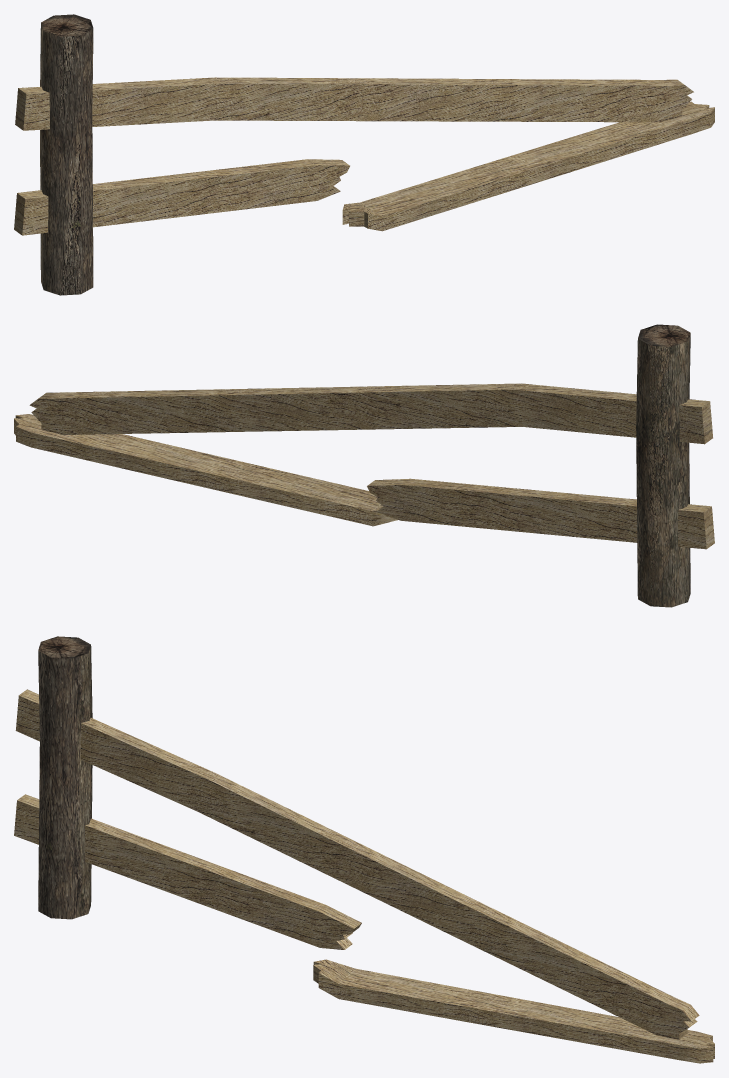
File: woodenFence12.FBX
3 views of the same model, one above another, from view 1: azimuth 30°, elevation 25°; view 2: azimuth 150°, elevation 25°; view 3: azimuth 330°, elevation 25° (orthographic).
Parts seen in each view (by area): view 1: wooden_fence_large_broken_1poleL; view 2: wooden_fence_large_broken_1poleL; view 3: wooden_fence_large_broken_1poleL.
Part boxes in pixels (left/top/right/bottom): wooden_fence_large_broken_1poleL: left=14, top=14, right=714, bottom=295; wooden_fence_large_broken_1poleL: left=14, top=324, right=714, bottom=607; wooden_fence_large_broken_1poleL: left=14, top=636, right=714, bottom=1063.
Bounding box in the file's own units: 421 × 152 × 41.22.
